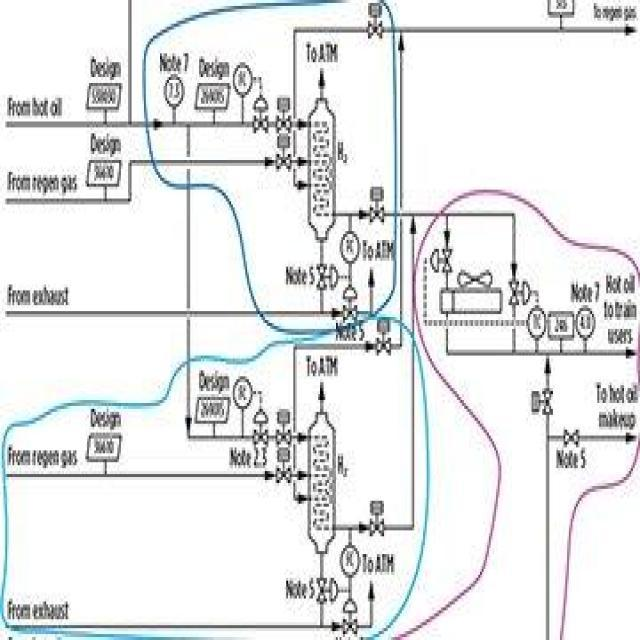Pneumatic-Diaphragm Gate Valve: (308, 576, 341, 612), (251, 92, 271, 140), (339, 280, 357, 326), (340, 602, 363, 637), (427, 246, 455, 274)
Rotary Piston-Pneumatic Gate Valve: (270, 396, 294, 482), (520, 378, 558, 426), (366, 497, 391, 541), (366, 182, 390, 224), (274, 132, 292, 173), (275, 95, 293, 132)
